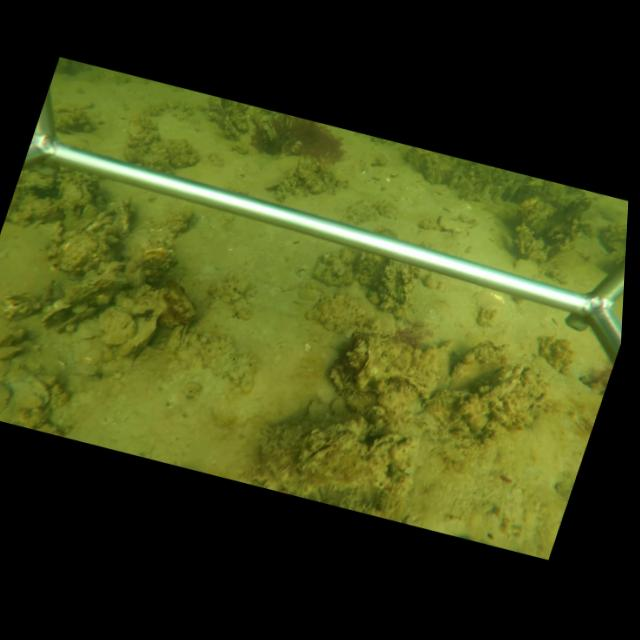Oyster-Closed: (443, 339, 511, 390), (114, 313, 160, 361), (159, 278, 197, 323), (54, 307, 99, 339), (365, 431, 407, 459)
